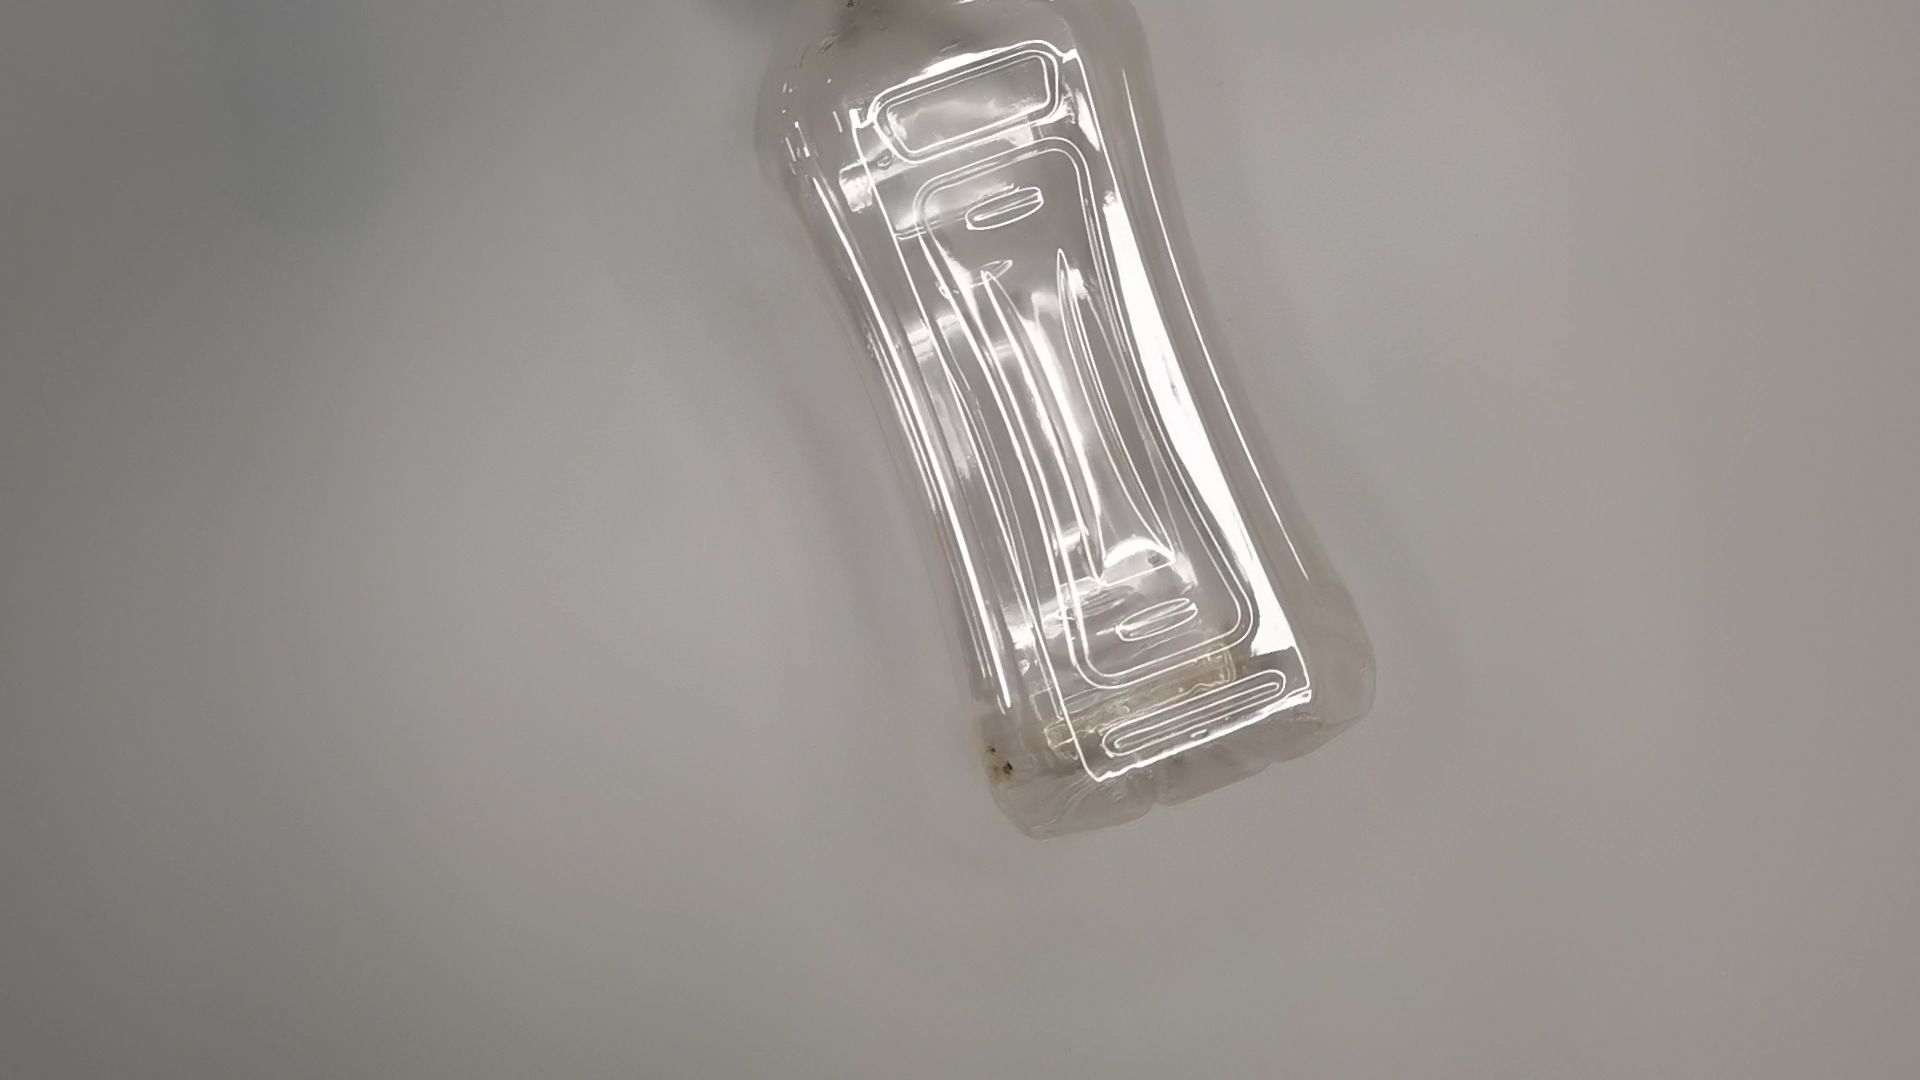bottle: (735, 1, 1379, 848)
